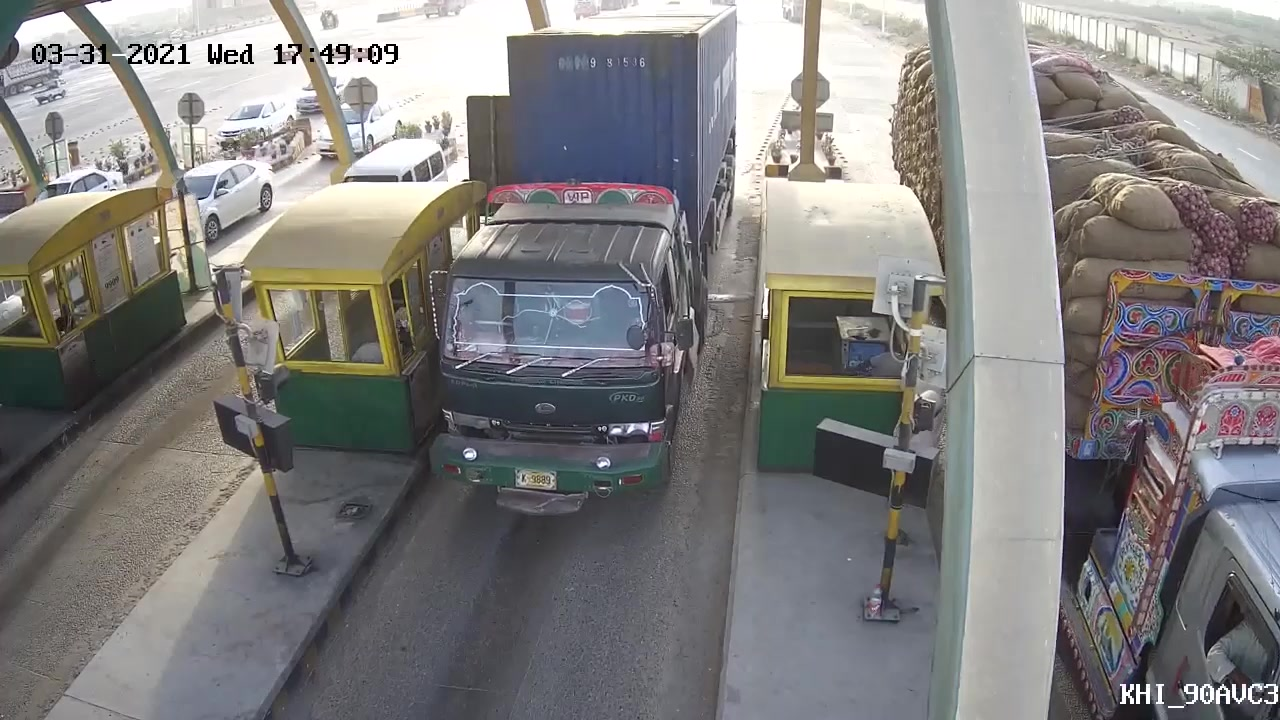F6: (420, 1, 746, 539)
